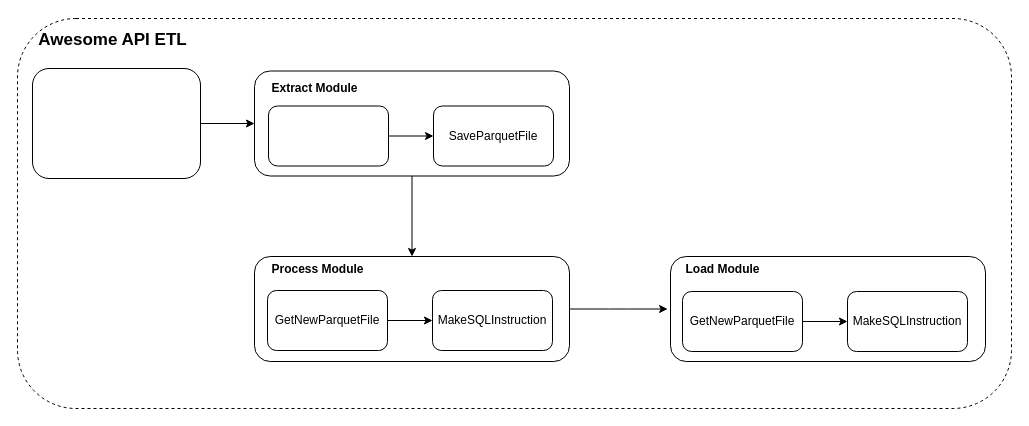
Some shapes in this 1029 by 426 pixel diagram are drawn without their labels. The shapes that lost their labels are listed below. From the top down, each one's centre as x and y in pixels, then its label:
point 116,123: Quotes API
point 328,135: GenerateParqueFile
